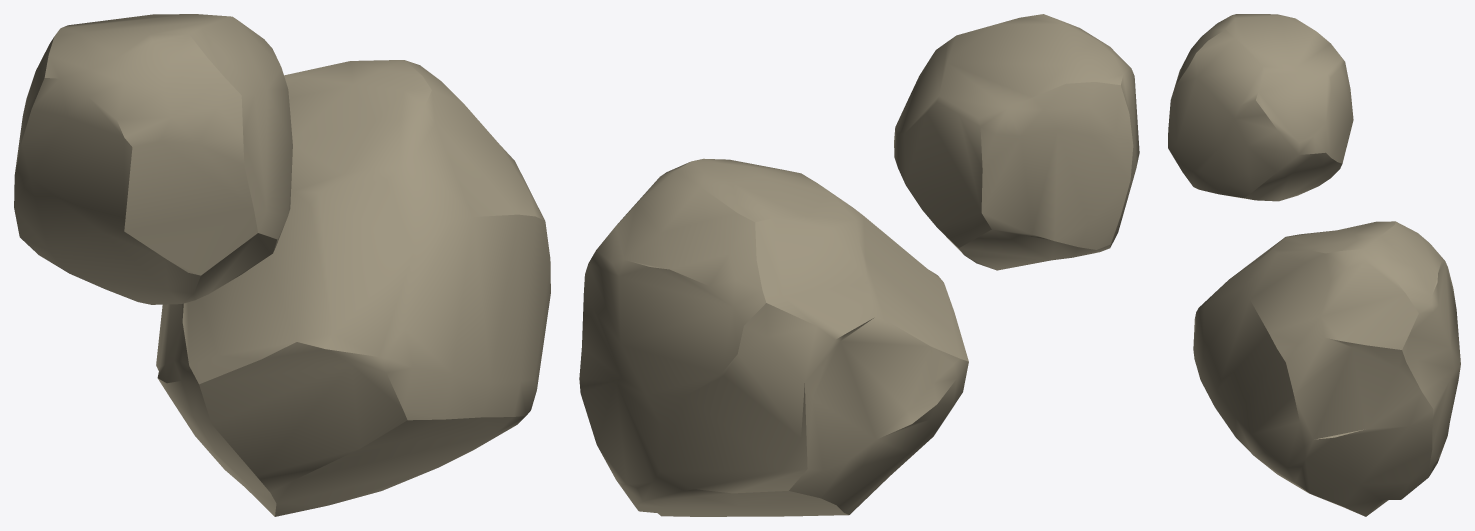
Rendered from quaternius-pirate-kit-ui-rocks.gltf.
3 renders of one model, left to right at view 1: azimuth 30°, elevation 25°; view 2: azimuth 150°, elevation 25°; view 3: azimuth 270°, elevation 25°, orthographic. The views are drawn at different scales.
Visible parts, largest first — view 1: UI_Rocks; view 2: UI_Rocks; view 3: UI_Rocks.
Boxes of the visible parts, <box> form: UI_Rocks: <box>14,14,550,516</box>; UI_Rocks: <box>579,14,1139,516</box>; UI_Rocks: <box>1168,14,1460,516</box>.
Bounding box in the file's own units: 0.4073 × 0.4131 × 0.2855.
1 material, 1 textured.
